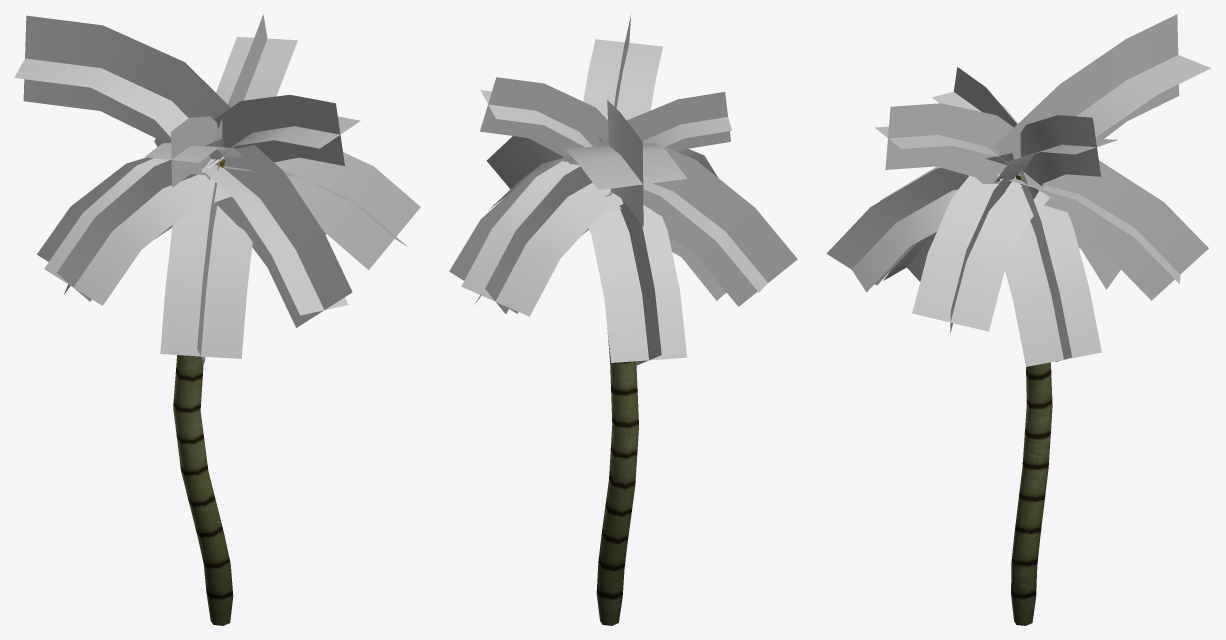
File: 10_Palmera_LOD0.fbx
3 views of the same model, side by side, from view 1: azimuth 30°, elevation 25°; view 2: azimuth 150°, elevation 25°; view 3: azimuth 270°, elevation 25° (orthographic). The views are drawn at different scales.
Visible parts, largest first — view 1: 10_Palmera_LOD0; view 2: 10_Palmera_LOD0; view 3: 10_Palmera_LOD0.
Boxes of the visible parts, x1,y1,x2,y2 form: 10_Palmera_LOD0: [14, 14, 420, 625]; 10_Palmera_LOD0: [449, 14, 797, 625]; 10_Palmera_LOD0: [826, 14, 1211, 625].
Size of the model in its own units: 641 by 1034 by 651.
